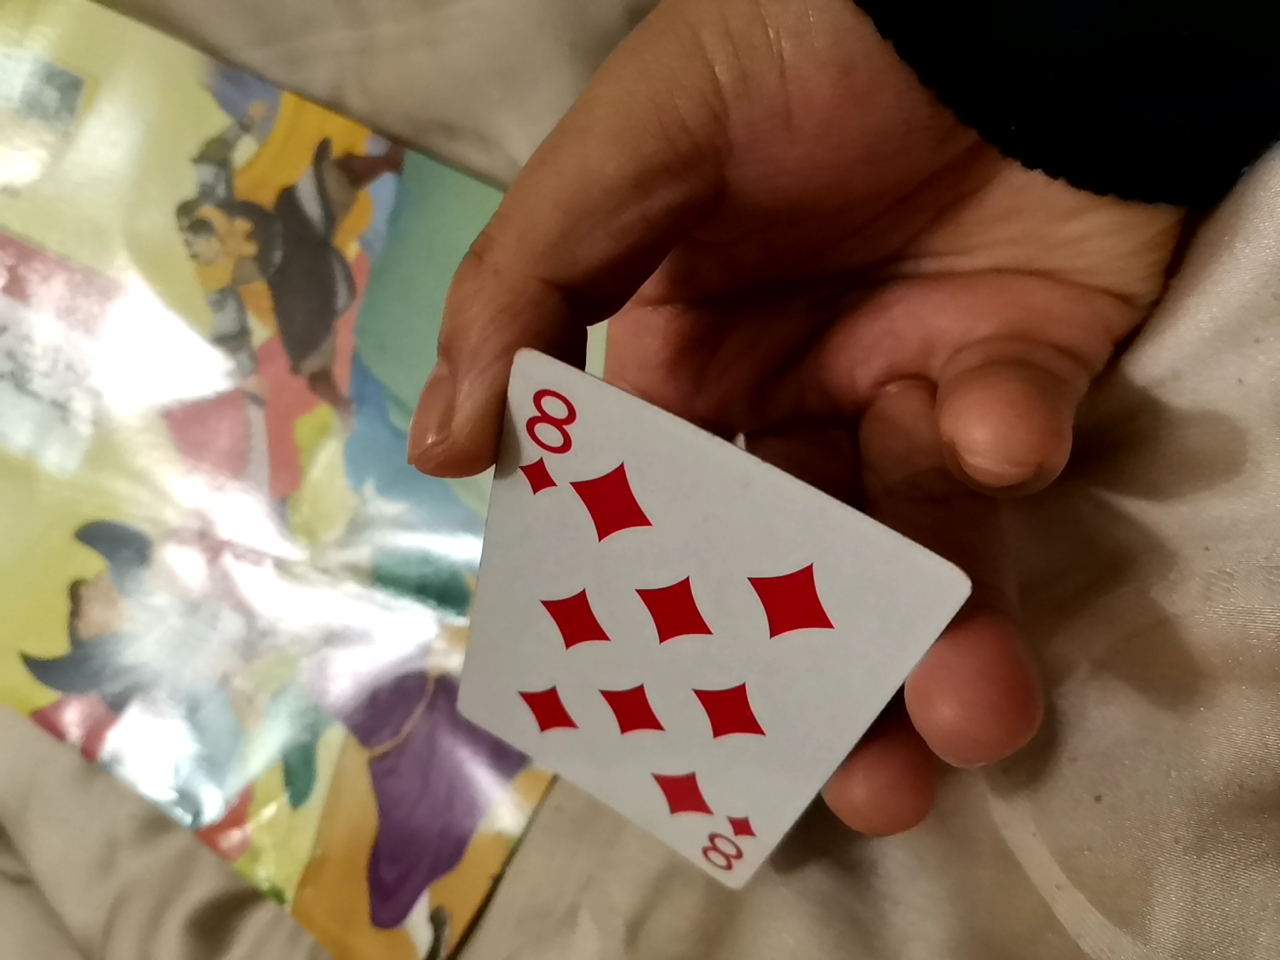fk 8: (479, 369, 976, 898)
